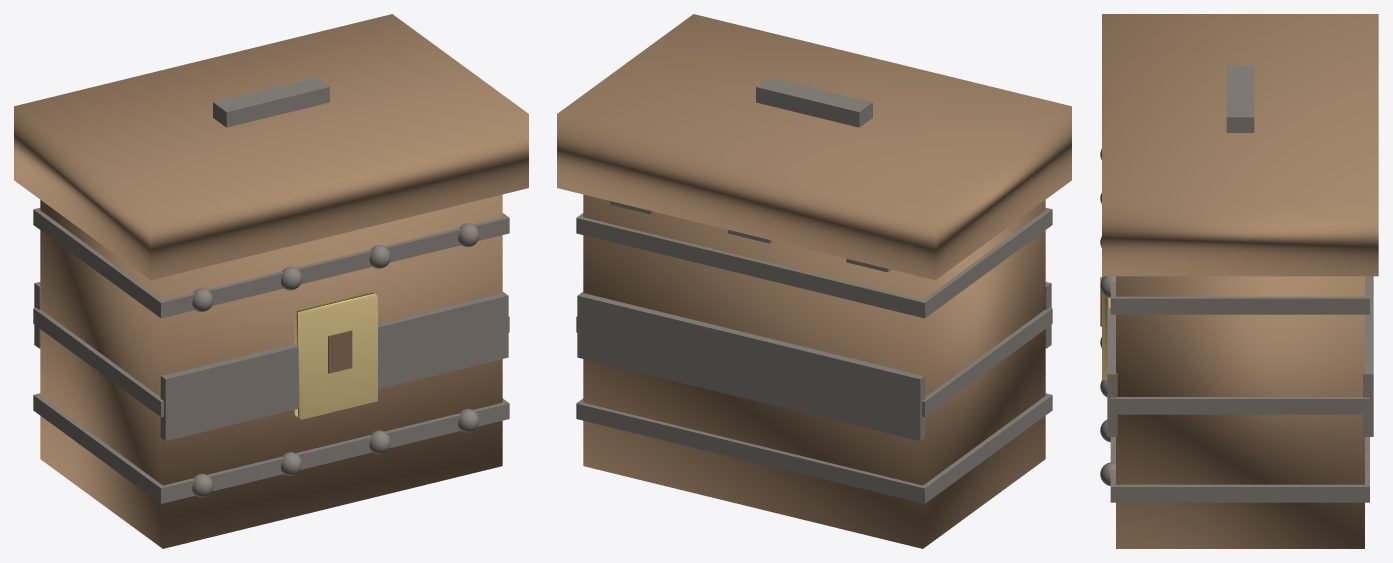
File: rpg_chest.glb
3 renders of one model, left to right at view 1: azimuth 30°, elevation 25°; view 2: azimuth 150°, elevation 25°; view 3: azimuth 270°, elevation 25°, orthographic.
Visible parts, largest first — view 1: ChestLid, ChestBody, FrontBand_-0.37, LockPlate, Band_0.18, Band_0.78, HandleBar, Band_0.46, Keyhole; view 2: ChestLid, ChestBody, FrontBand_0.37, Band_0.18, Band_0.78, HandleBar, Band_0.46; view 3: ChestLid, ChestBody, Band_0.18, Band_0.78, Band_0.46, HandleBar, FrontBand_0.37, FrontBand_-0.37, LockPlate.
Part boxes in pixels (bbox=[...]): ChestLid: bbox=[14, 14, 528, 280]; ChestBody: bbox=[40, 194, 502, 548]; FrontBand_-0.37: bbox=[160, 292, 508, 440]; LockPlate: bbox=[294, 291, 377, 419]; Band_0.18: bbox=[33, 393, 509, 503]; Band_0.78: bbox=[33, 208, 509, 318]; HandleBar: bbox=[213, 77, 329, 127]; Band_0.46: bbox=[33, 307, 509, 417]; Keyhole: bbox=[328, 330, 352, 373]; ChestLid: bbox=[557, 14, 1071, 280]; ChestBody: bbox=[583, 194, 1045, 548]; FrontBand_0.37: bbox=[577, 292, 925, 440]; Band_0.18: bbox=[576, 393, 1052, 503]; Band_0.78: bbox=[576, 208, 1052, 318]; HandleBar: bbox=[756, 77, 872, 127]; Band_0.46: bbox=[576, 307, 1052, 417]; ChestLid: bbox=[1102, 14, 1378, 276]; ChestBody: bbox=[1116, 276, 1364, 548]; Band_0.18: bbox=[1110, 437, 1369, 502]; Band_0.78: bbox=[1110, 276, 1369, 314]; Band_0.46: bbox=[1110, 397, 1369, 414]; HandleBar: bbox=[1226, 66, 1254, 132]; FrontBand_0.37: bbox=[1363, 276, 1373, 436]; FrontBand_-0.37: bbox=[1107, 308, 1117, 436]; LockPlate: bbox=[1102, 276, 1110, 380].
Bounding box in the file's own units: 1.28 × 1.19 × 0.805.
